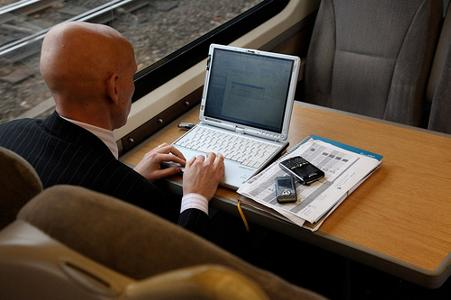person: (3, 22, 228, 250)
